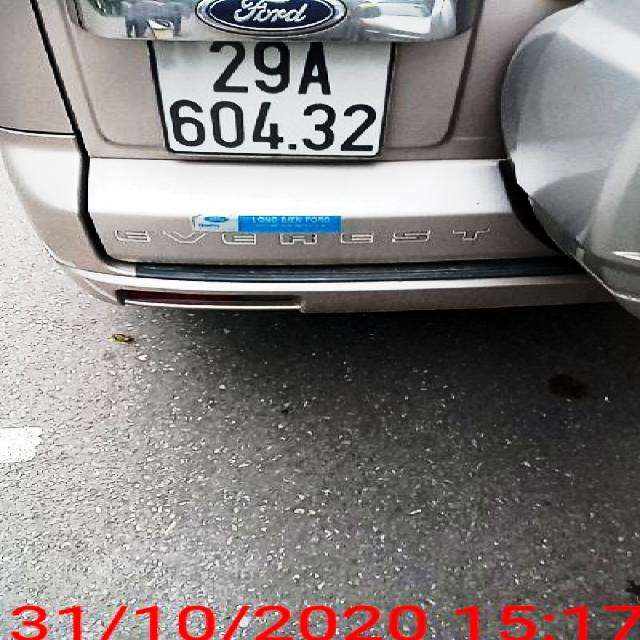license_plate: (149, 39, 398, 158)
